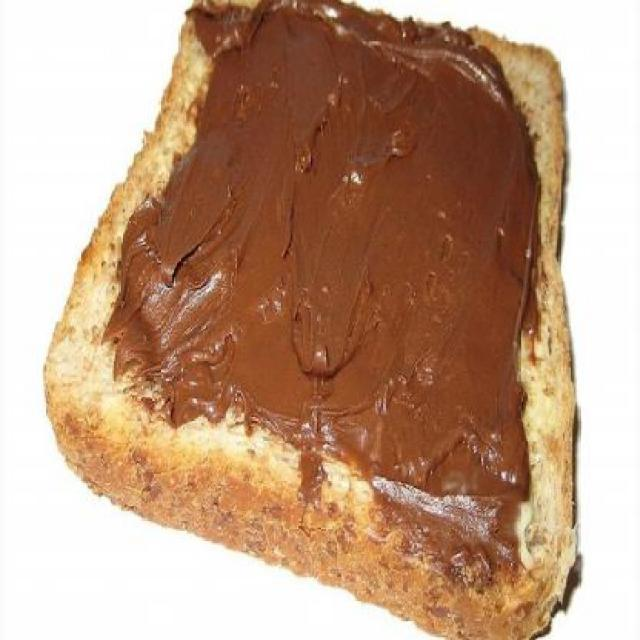Spread: (120, 2, 531, 500)
